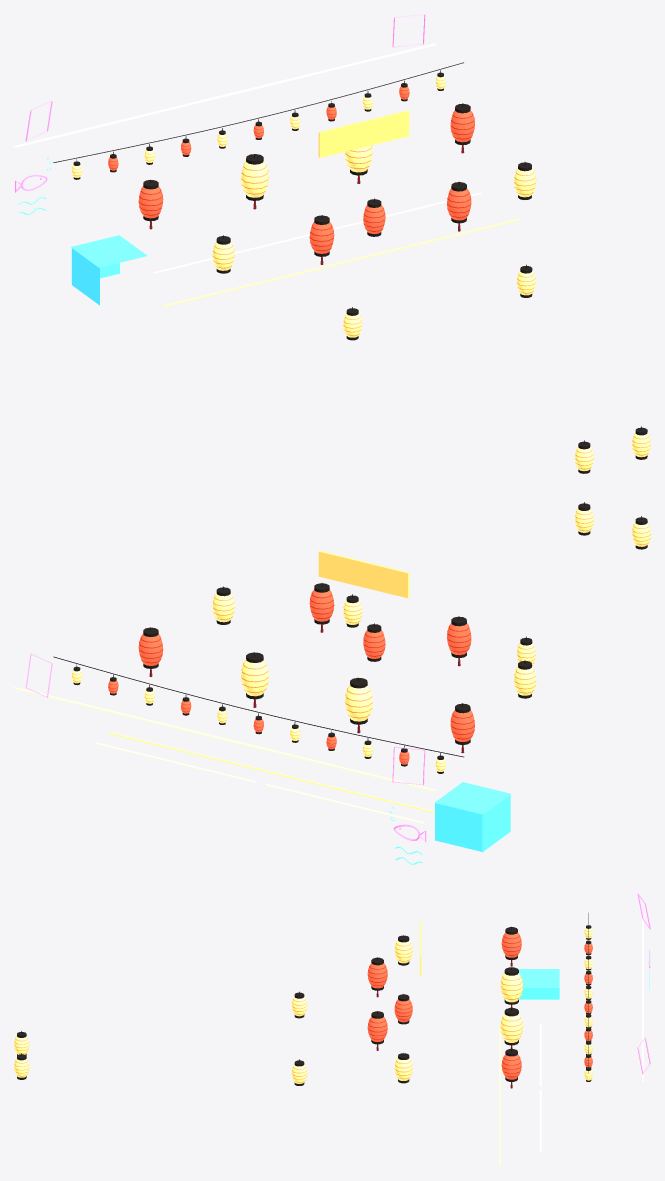
Rendered from sushi-bar-glow.glb.
3 renders of one model, top to bottom at view 1: azimuth 30°, elevation 25°; view 2: azimuth 150°, elevation 25°; view 3: azimuth 270°, elevation 25°, orthographic. The views are drawn at different scales.
Visible parts, largest first — view 1: sushi-bar-glow; view 2: sushi-bar-glow; view 3: sushi-bar-glow.
Boxes of the visible parts, bbox=[...] form: sushi-bar-glow: bbox=[14, 14, 650, 473]; sushi-bar-glow: bbox=[14, 502, 650, 864]; sushi-bar-glow: bbox=[14, 893, 650, 1166].
Size of the model in its own units: 8.1 by 3.4 by 13.26.
2 materials, 1 textured.
